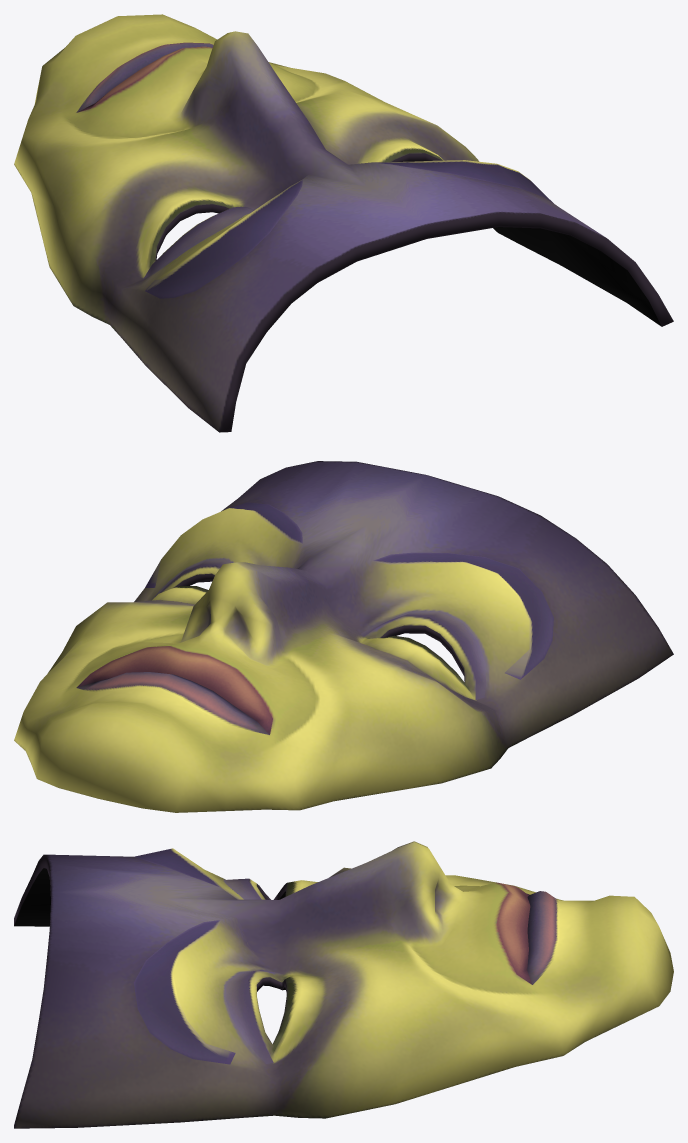
Rendered from anim1_000104.obj.
3 renders of one model, top to bottom at view 1: azimuth 30°, elevation 25°; view 2: azimuth 150°, elevation 25°; view 3: azimuth 270°, elevation 25°, orthographic. The views are drawn at different scales.
Parts seen in each view (by area): view 1: 151out; view 2: 151out; view 3: 151out.
Boxes of the visible parts, left/top/right/bottom form: 151out: left=14, top=14, right=673, bottom=432; 151out: left=14, top=461, right=673, bottom=812; 151out: left=14, top=841, right=673, bottom=1128.
Bounding box in the file's own units: 4.16 × 1.69 × 5.52.
